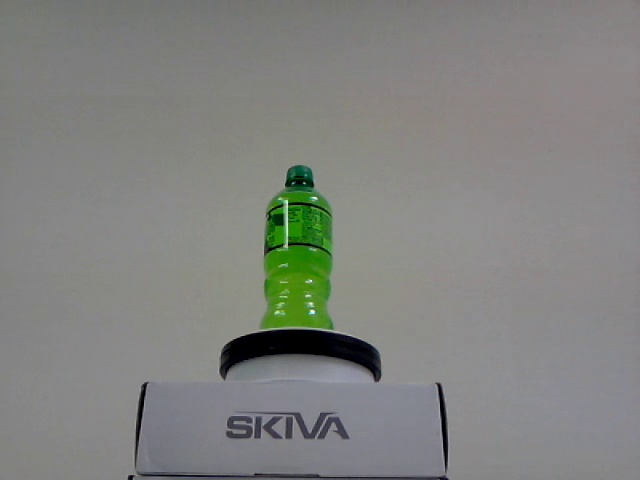botolplastik: (266, 165, 334, 328)
